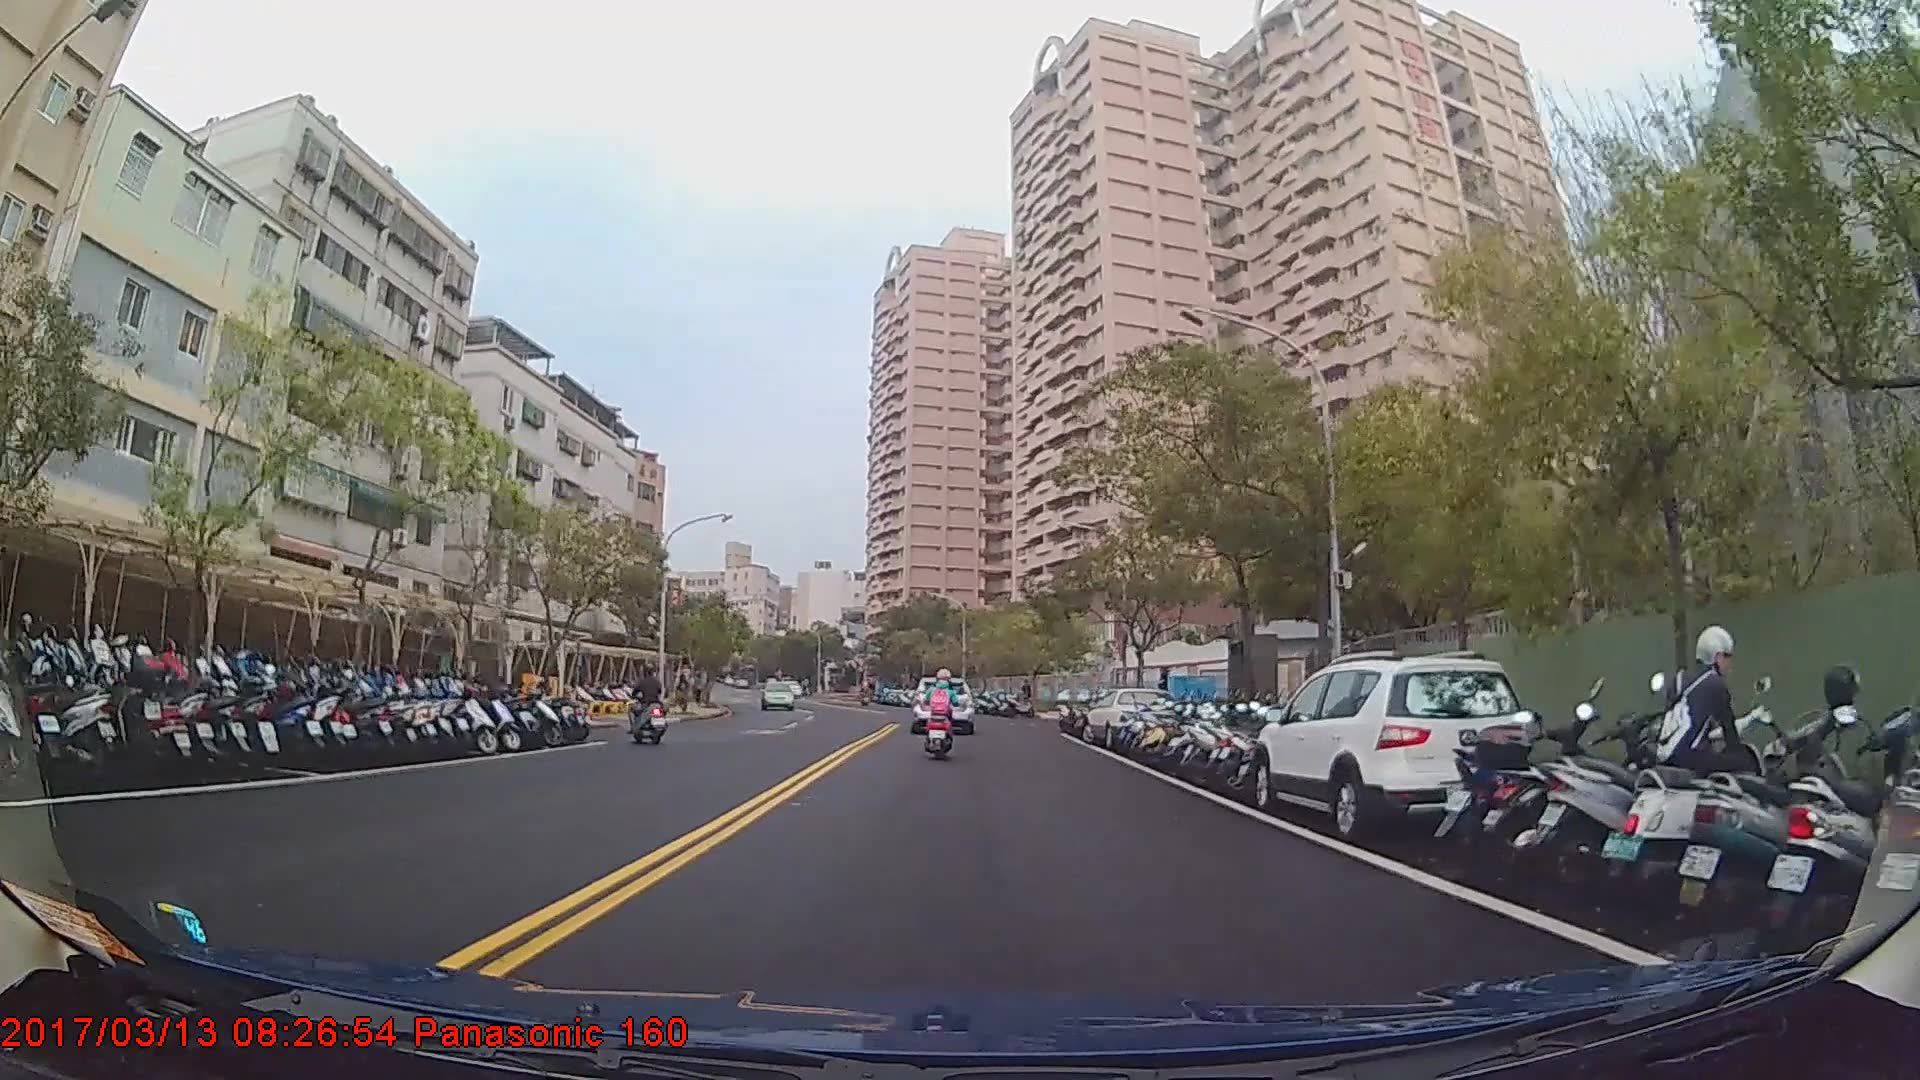rider: (922, 664, 962, 766), (629, 664, 666, 750)
vehicle: (1247, 655, 1535, 837), (1081, 686, 1174, 753), (908, 675, 973, 732), (758, 681, 796, 710)
